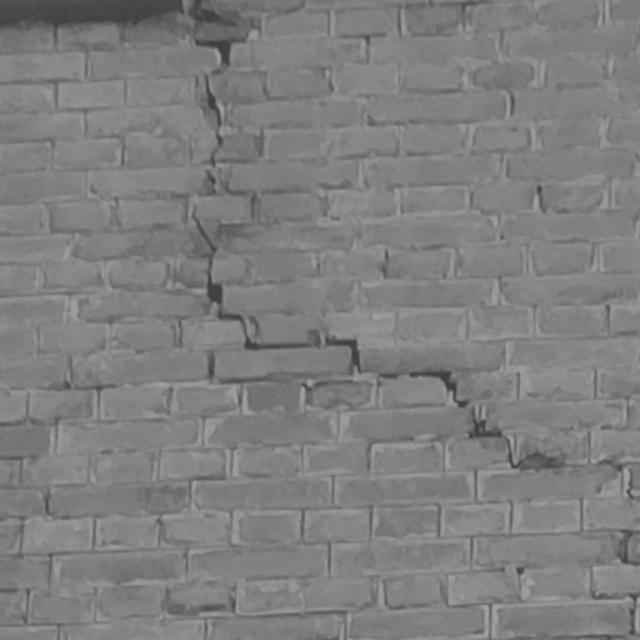crack: (188, 1, 636, 500)
